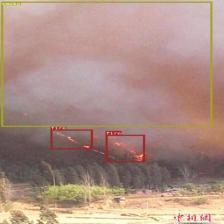fire: (106, 135, 144, 162), (50, 129, 92, 149)
smoke: (1, 1, 212, 127)
